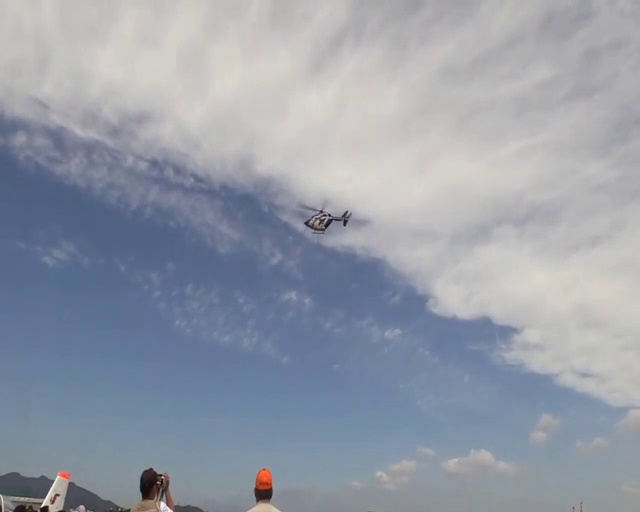HELICOPTER: (299, 201, 352, 234)
